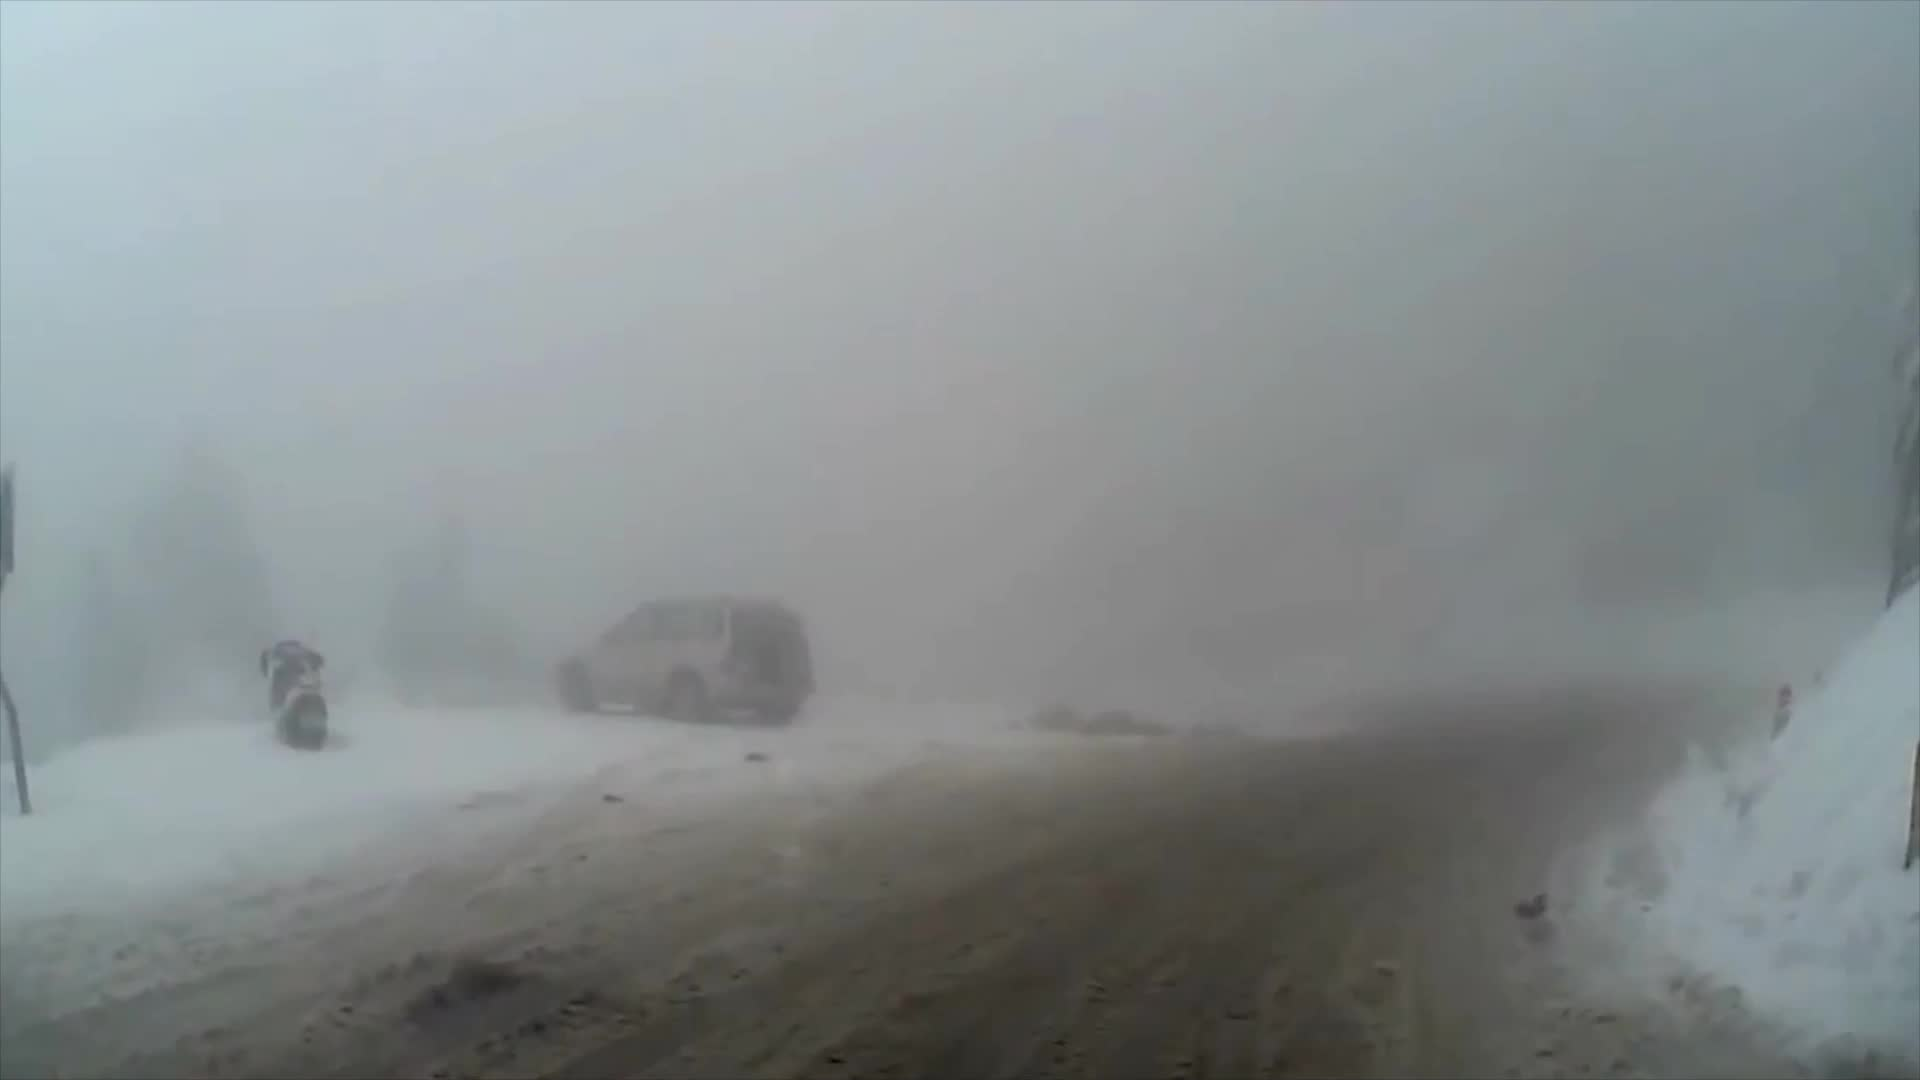vehicle: (549, 589, 808, 723)
